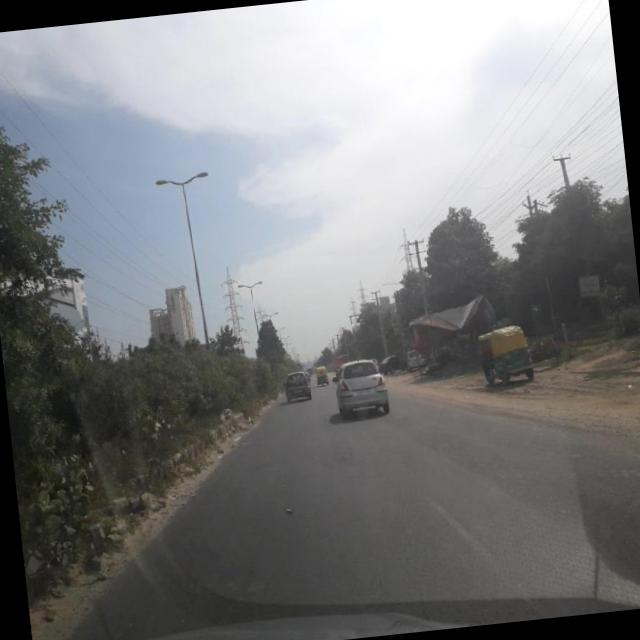crack: (99, 405, 640, 632)
